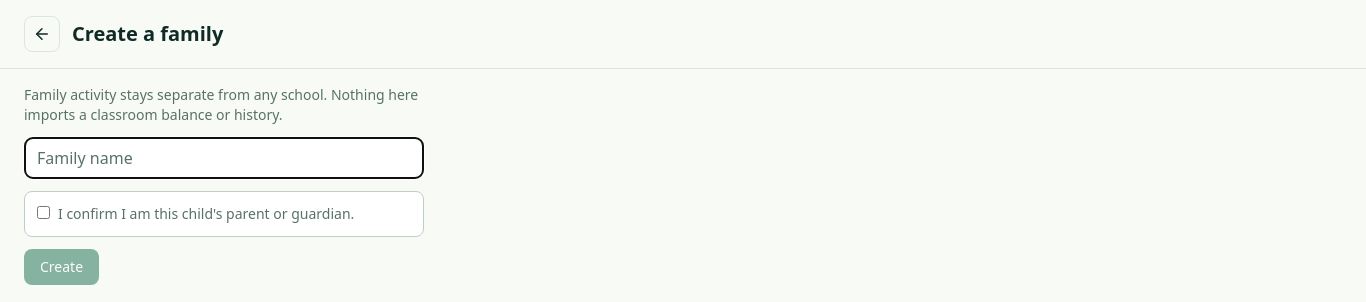
it: CreateFamilyPage › requires an affirmative consent acknowledgment before Create is enabled, when the profile requires it
Type "The Rivera Family" into the field with placeholder "Family name".
click(224, 158); type("The Rivera Family")  # box [24,137,424,179]
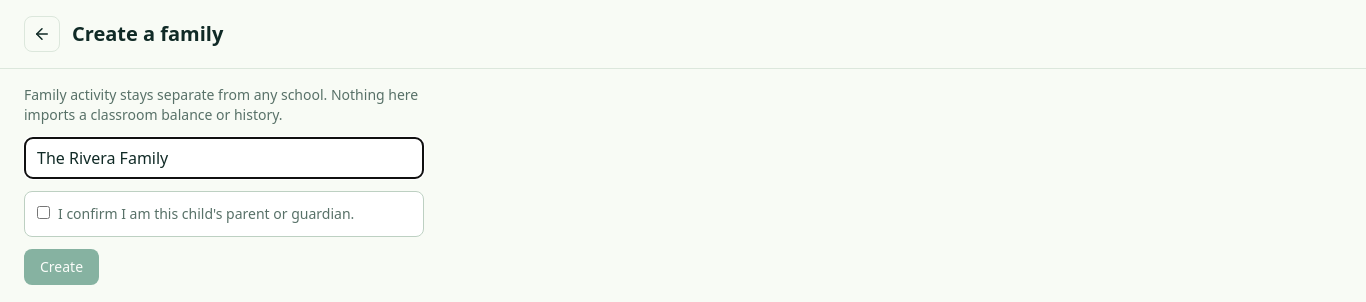
Expected: the button "Create" is disabled, [24,249,99,285]
Click the checkbox.
click(44, 212)  # box [37,206,50,219]
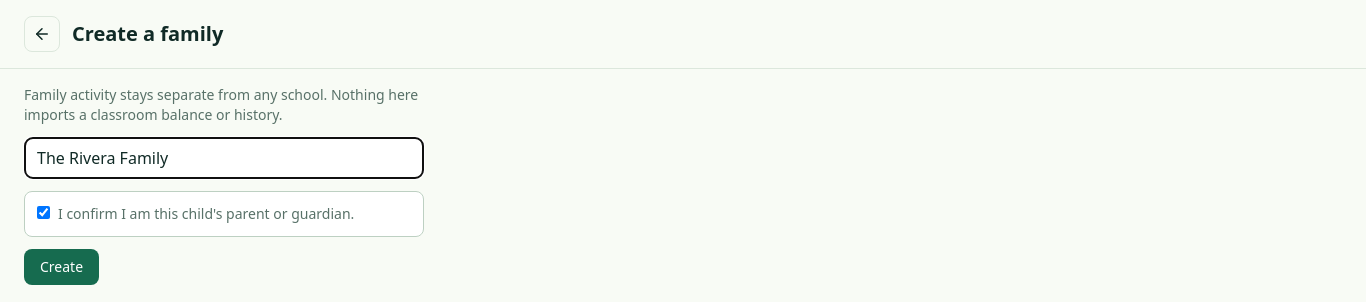
Result: the button "Create" is enabled at [24,249,99,285]
